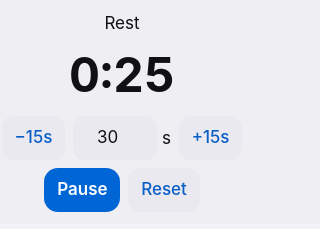
Scenario: Timer › adjusting while running moves the end time
Click the button named "Add 15 seconds".
click(211, 138)  # box [179,116,242,160]
Wait 1000 ms
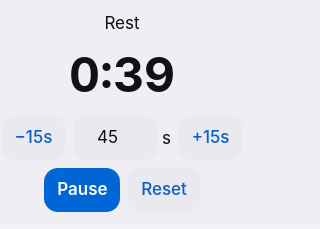
Result: the text "0:39" is shown at [69,43,175,108]
